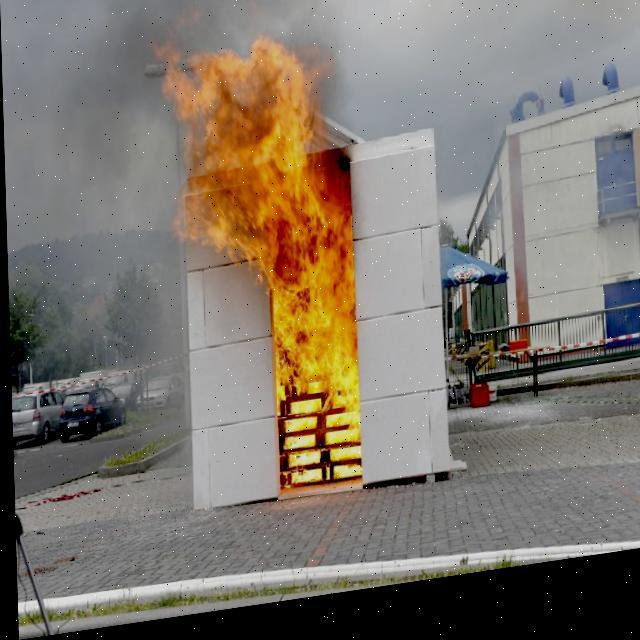Fire: (162, 26, 358, 518)
